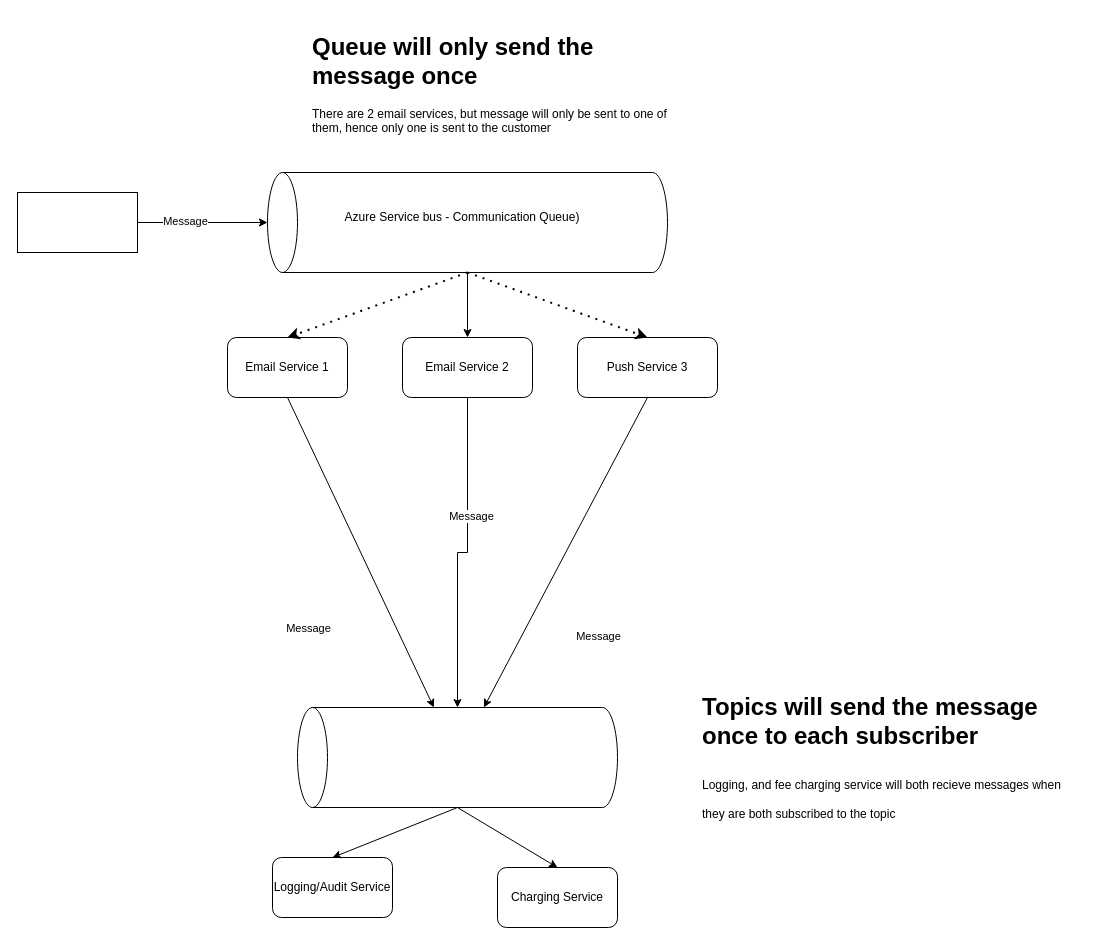
Some shapes in this 1105 by 945 pixel diagram are drawn without their labels. The box of each missing label's shape, as (x1, y1, x2, y2) in pixels:
Azure Service bus (topic): (296, 706, 618, 808)
Send: (16, 192, 138, 252)
